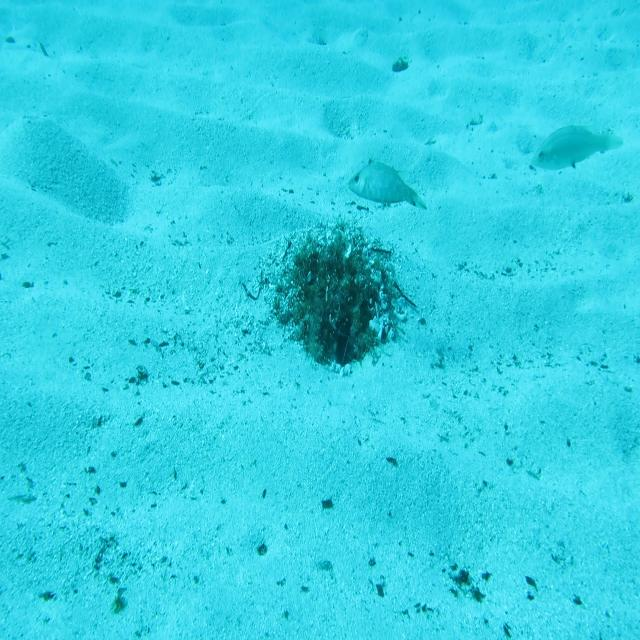BK_SW: (345, 148, 430, 216)
female: (531, 119, 625, 176)
nest: (266, 222, 414, 370)
